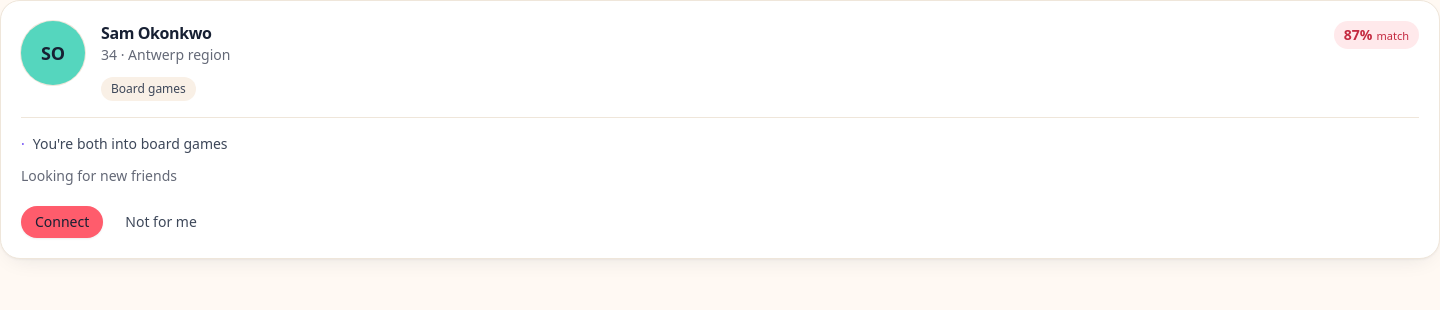
Test: dismissing somebody › brings the card back when the exclusion could not be saved
The image size is (1440, 310).
Step 1. Click the button "Not for me" → (161, 222), box [111,206,211,238]
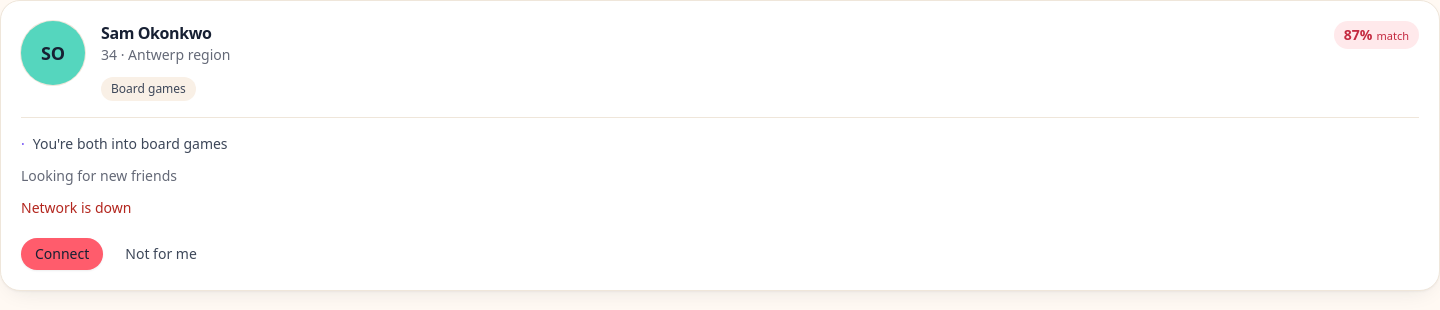
Check: the button "Not for me" is shown, box [111,238,211,270]
Check: the message reads "Network is down", box [21,198,131,217]
